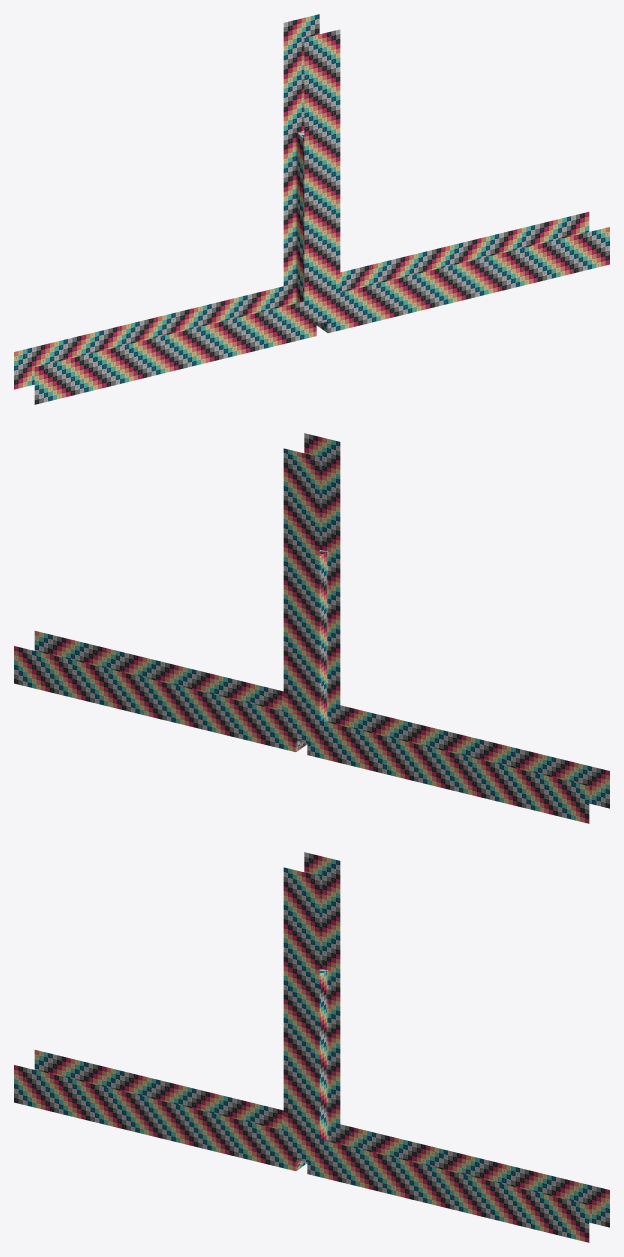
File: wallManualMorph3.glb
3 renders of one model, top to bottom at view 1: azimuth 30°, elevation 25°; view 2: azimuth 150°, elevation 25°; view 3: azimuth 330°, elevation 25°, orthographic.
Parts seen in each view (by area): view 1: wallMaxWidth, wallHoleMaxWidth, wallMaxHeight, wallHoleMaxHeight, wall; view 2: wallMaxWidth, wallHoleMaxWidth, wallMaxHeight, wallHoleMaxHeight, wall; view 3: wallMaxWidth, wallHoleMaxWidth, wallMaxHeight, wallHoleMaxHeight, wall.
Part boxes in pixels (left/top/right/bottom): wallMaxWidth: left=14, top=212, right=609, bottom=404; wallHoleMaxWidth: left=121, top=253, right=502, bottom=378; wallMaxHeight: left=283, top=14, right=340, bottom=326; wallHoleMaxHeight: left=283, top=130, right=340, bottom=338; wall: left=283, top=285, right=340, bottom=338; wallMaxWidth: left=14, top=631, right=609, bottom=823; wallHoleMaxWidth: left=121, top=657, right=502, bottom=797; wallMaxHeight: left=283, top=433, right=340, bottom=745; wallHoleMaxHeight: left=283, top=549, right=340, bottom=757; wall: left=283, top=703, right=340, bottom=757; wallMaxWidth: left=14, top=1050, right=609, bottom=1242; wallHoleMaxWidth: left=121, top=1076, right=499, bottom=1216; wallMaxHeight: left=283, top=852, right=340, bottom=1164; wallHoleMaxHeight: left=283, top=968, right=340, bottom=1176; wall: left=283, top=1122, right=340, bottom=1176.
Bounding box in the file's own units: 16 × 8 × 1.
Materials: 1 (1 with a texture image).
